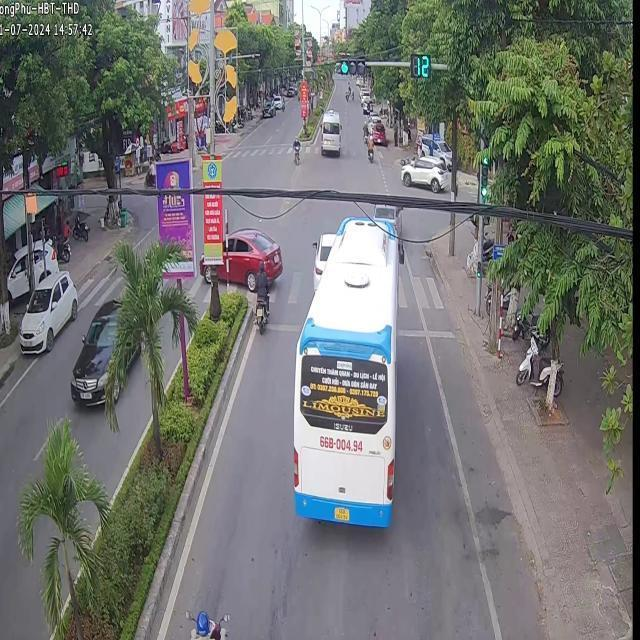car: (289, 217, 396, 530), (197, 227, 280, 289), (399, 154, 448, 191), (310, 231, 334, 288)
green_light: (334, 56, 364, 74), (477, 154, 487, 199)
motobike: (253, 258, 268, 331)
stop_line: (394, 328, 452, 336), (264, 319, 301, 330)
